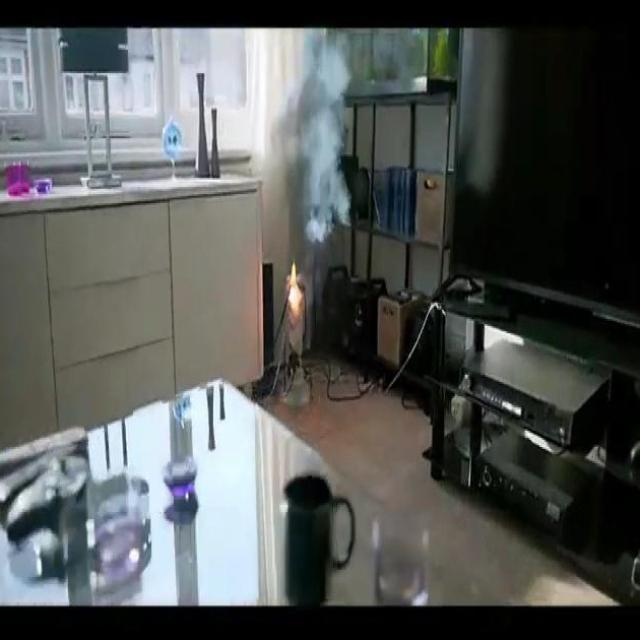fire: (276, 28, 355, 248)
smoke: (284, 262, 306, 320)
